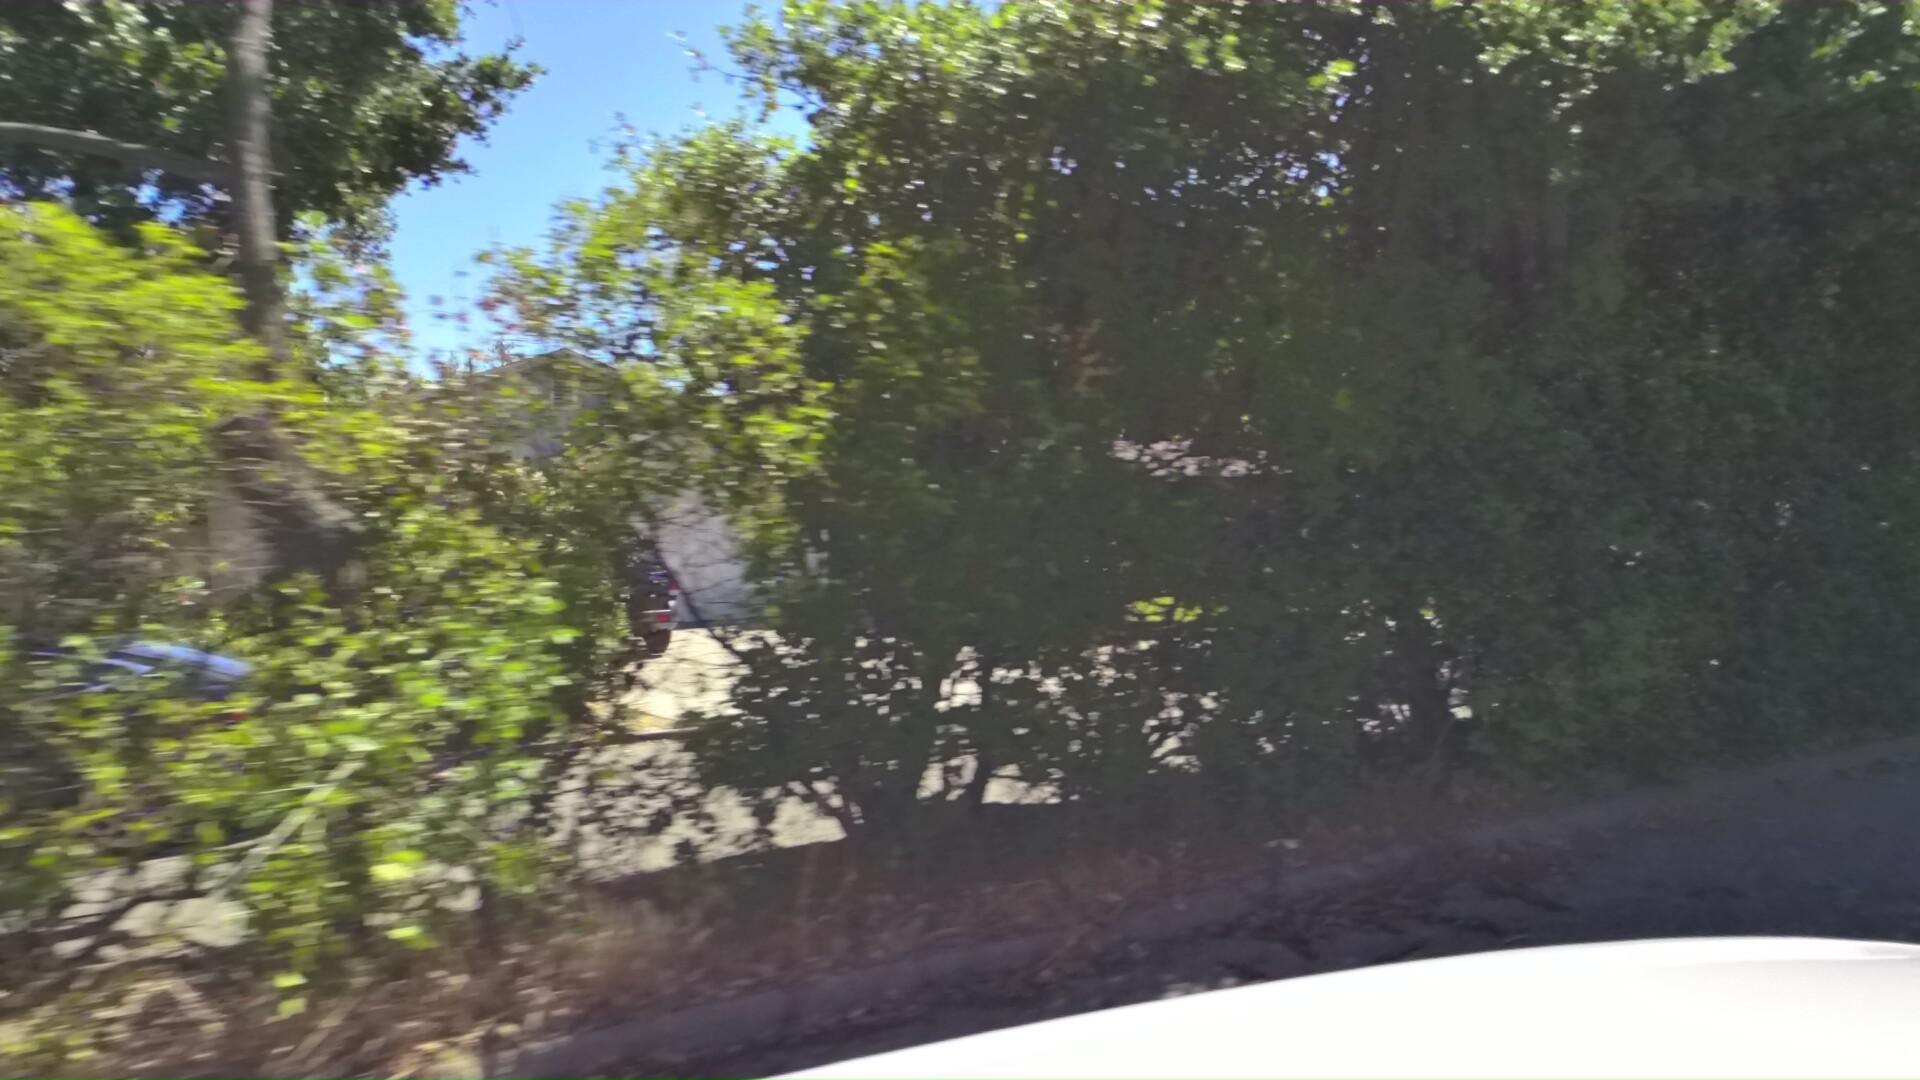car: (0, 574, 425, 1022)
